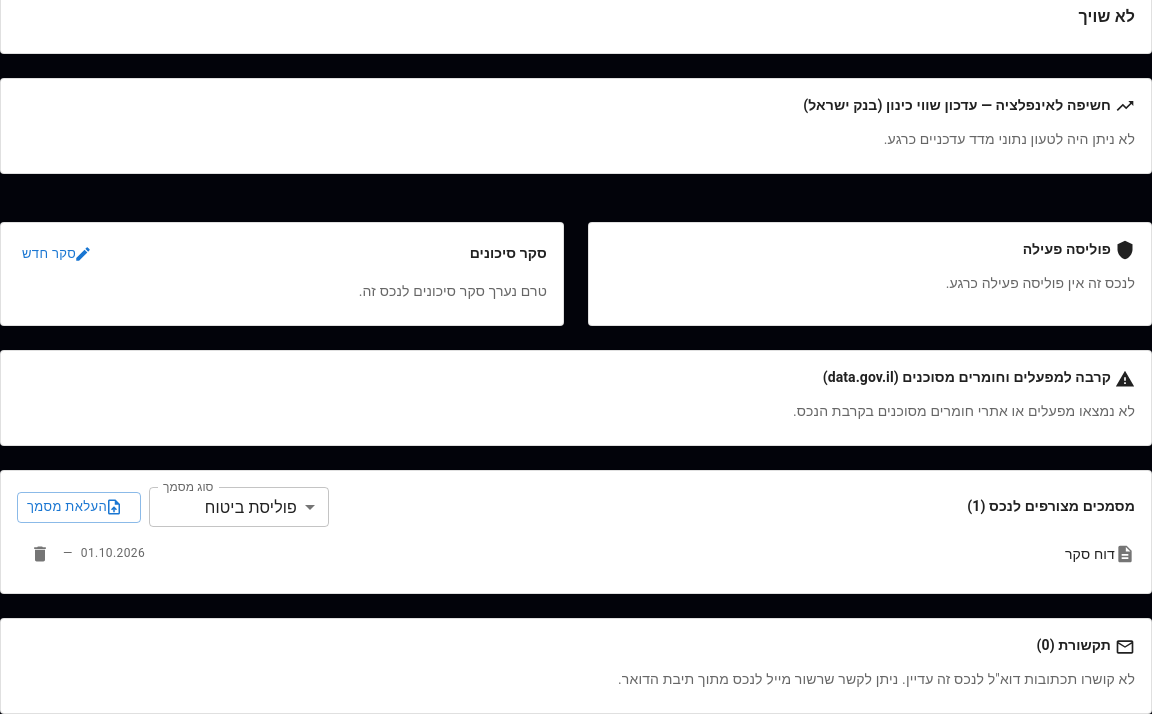
PropertyDetail — document delete › asks before deleting and does nothing when cancelled
(page scrolled)
Click the button named "מחק מסמך".
click(40, 554)  # box [25,539,55,569]
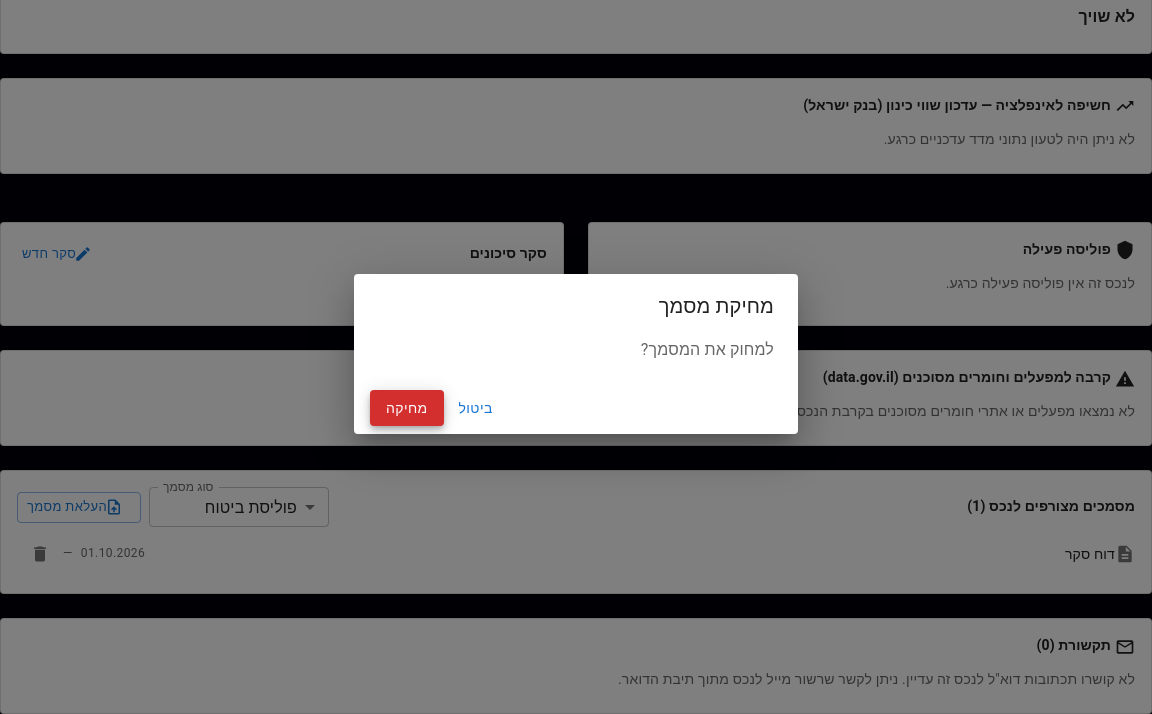
Click the button "ביטול".
click(476, 408)  # box [444,390,508,426]
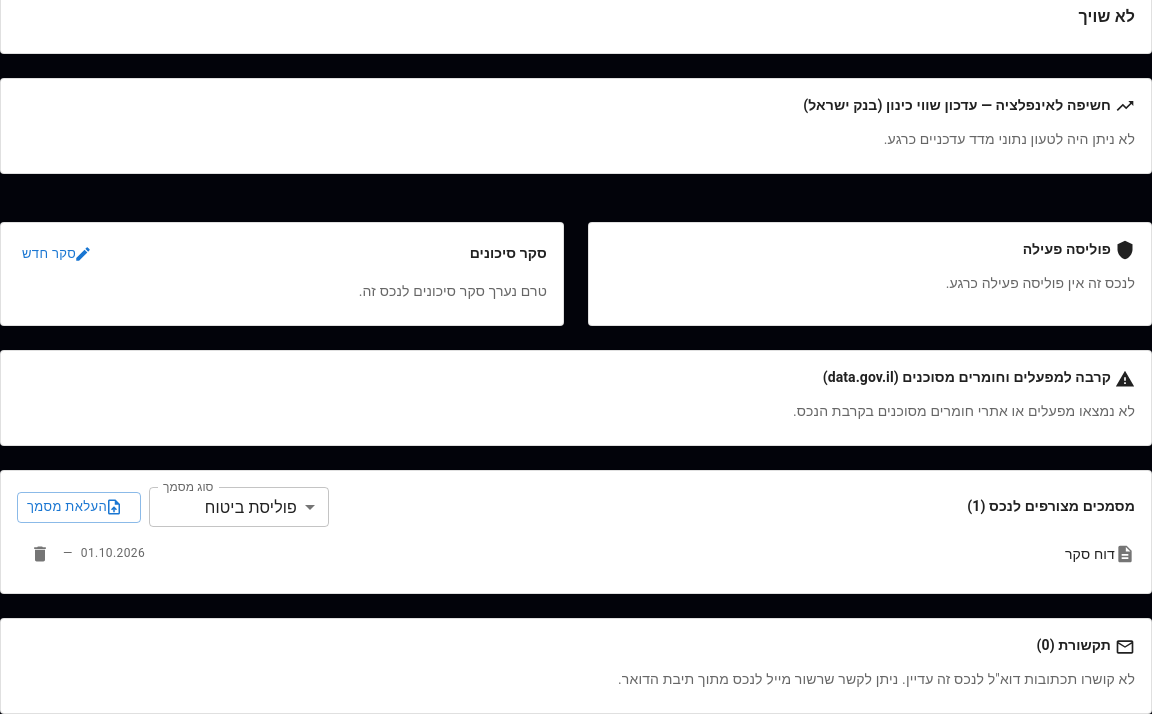
Now the dialog is gone
